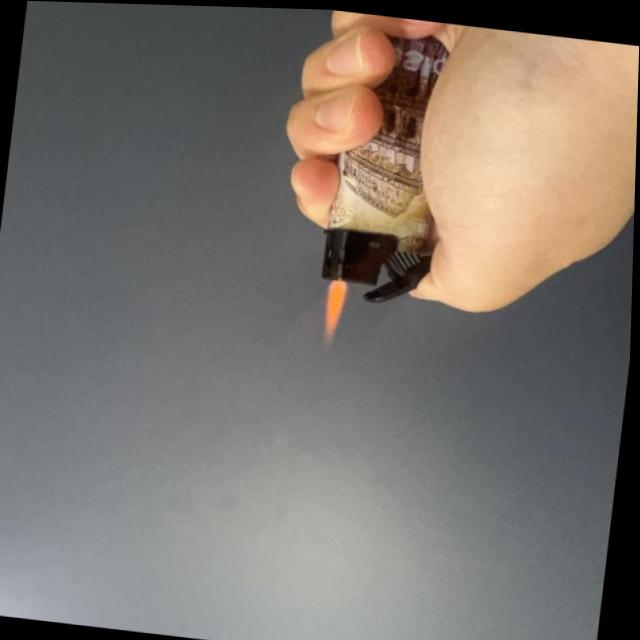Fire: (320, 274, 353, 343)
